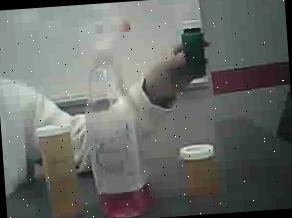Bottle A: (30, 118, 86, 218)
Bottle B: (178, 136, 228, 206)
Bottle C: (176, 15, 214, 84)
hazard: (78, 12, 151, 218)
